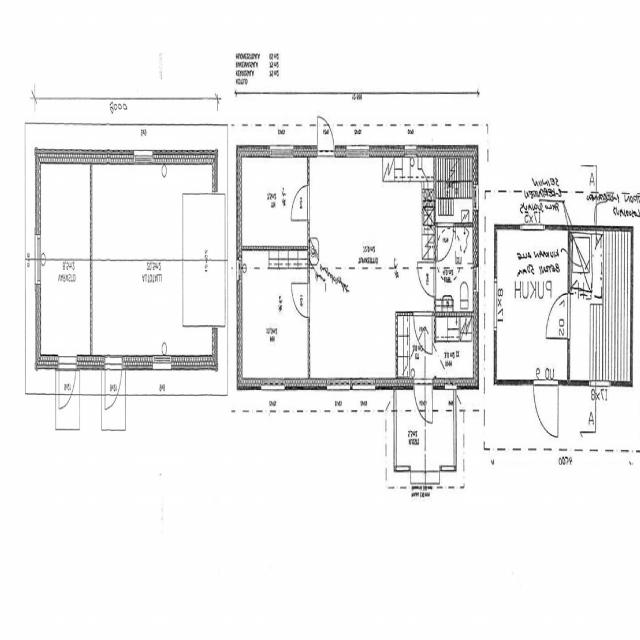door: (534, 379, 558, 438), (546, 294, 570, 338), (414, 379, 432, 423), (414, 312, 432, 355), (59, 356, 76, 400), (105, 356, 122, 400), (318, 111, 334, 157), (437, 223, 454, 261), (292, 185, 310, 220), (418, 261, 436, 296), (292, 282, 310, 316)
